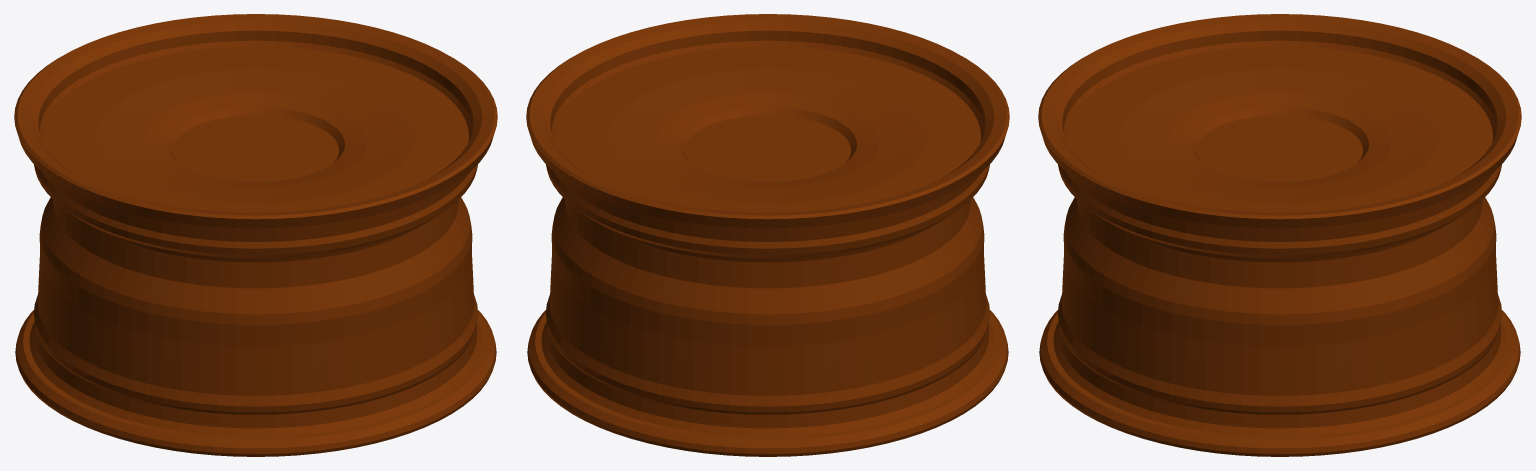
File: WVP_Wheel.obj
3 views of the same model, side by side, from view 1: azimuth 30°, elevation 25°; view 2: azimuth 150°, elevation 25°; view 3: azimuth 270°, elevation 25° (orthographic).
Size of the model in its own units: 0.508 by 0.2794 by 0.508.
